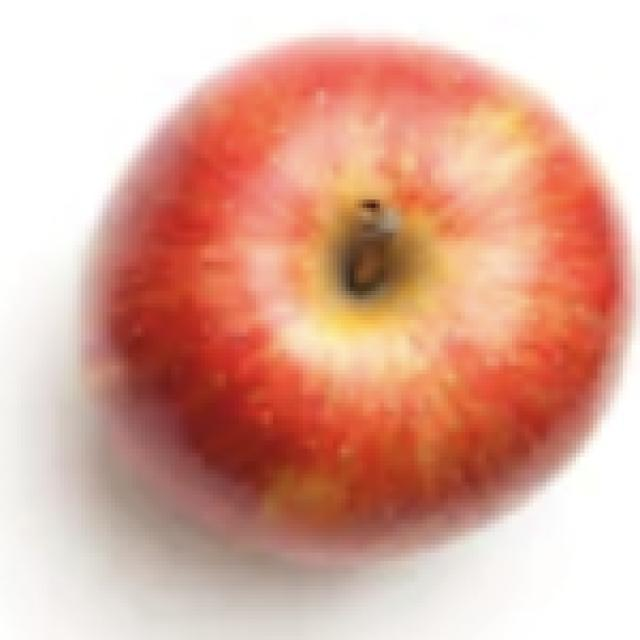Fresh Apple: (86, 37, 612, 605)
